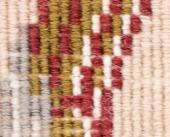Knot: (38, 88, 51, 99), (17, 64, 29, 75), (68, 25, 80, 36), (68, 36, 80, 47), (38, 99, 51, 108), (29, 119, 39, 130), (18, 94, 29, 104), (39, 108, 51, 117), (47, 57, 59, 66), (50, 126, 62, 135), (46, 3, 59, 11), (49, 45, 59, 55), (80, 118, 89, 129), (60, 126, 71, 135), (18, 79, 29, 88), (71, 118, 80, 129), (71, 64, 80, 75), (140, 110, 151, 119), (38, 47, 49, 56), (119, 6, 131, 14), (16, 3, 28, 11), (59, 86, 71, 94), (8, 79, 17, 89), (92, 119, 101, 129), (110, 16, 120, 25), (29, 64, 38, 74), (59, 23, 68, 33), (49, 67, 59, 76), (69, 98, 80, 106), (120, 35, 128, 46), (90, 22, 98, 33), (111, 35, 119, 46), (71, 107, 80, 116), (111, 47, 120, 56), (38, 75, 47, 84), (62, 108, 71, 117), (81, 107, 90, 116), (29, 108, 38, 117), (80, 66, 89, 75), (29, 75, 38, 84), (38, 65, 47, 74), (59, 98, 69, 106), (92, 57, 102, 65), (102, 77, 110, 87), (38, 12, 46, 22), (8, 129, 21, 135), (51, 108, 60, 116), (111, 57, 120, 65), (80, 57, 89, 65), (111, 78, 119, 87), (110, 6, 119, 14), (102, 47, 110, 56), (80, 99, 89, 107), (131, 6, 139, 15), (71, 86, 80, 94), (51, 99, 59, 107), (122, 47, 130, 55), (90, 14, 98, 22), (102, 56, 110, 64), (20, 110, 29, 117), (29, 101, 38, 108), (80, 28, 89, 35), (90, 129, 100, 135), (101, 15, 109, 22), (81, 86, 89, 93), (140, 130, 151, 135), (29, 130, 39, 135), (21, 129, 29, 135), (41, 130, 50, 135), (131, 130, 140, 135), (83, 130, 90, 135)
